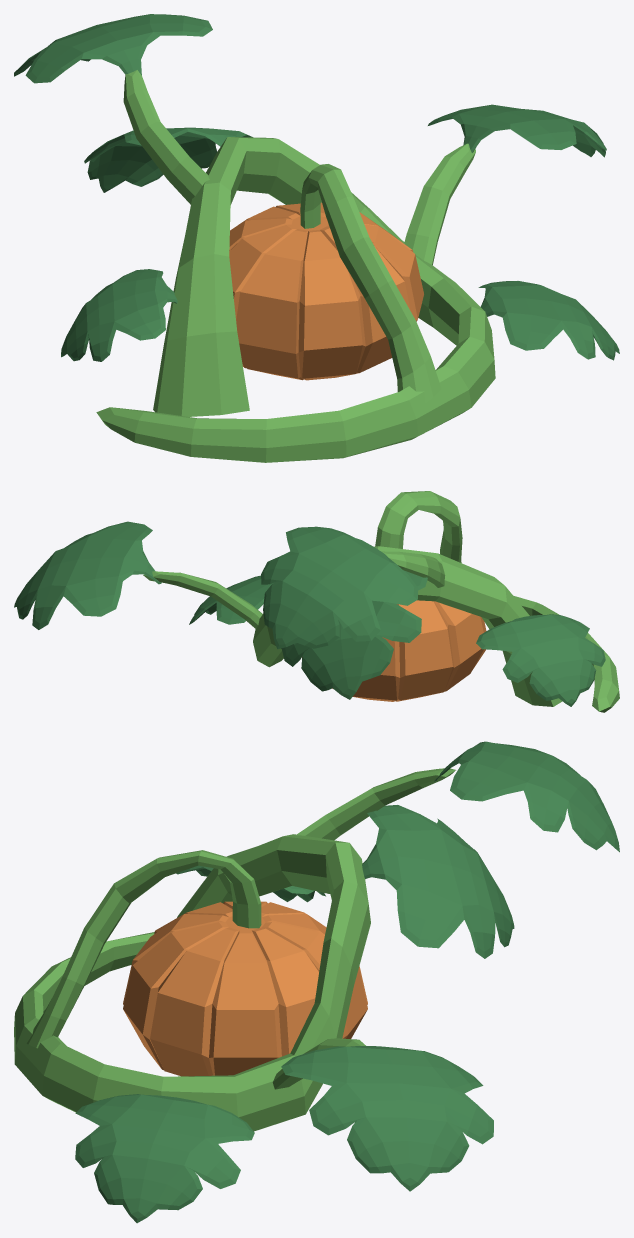
File: Pumpkin_4-optimized.glb
The picture shows the model from 3 angles, top to bottom: view 1: azimuth 30°, elevation 25°; view 2: azimuth 150°, elevation 25°; view 3: azimuth 270°, elevation 25°; orthographic projection. The views are drawn at different scales.
Visible parts, largest first — view 1: Pumpkin_4; view 2: Pumpkin_4; view 3: Pumpkin_4.
Part boxes in pixels (<box>): Pumpkin_4: <box>14,14,619,462</box>; Pumpkin_4: <box>14,491,619,712</box>; Pumpkin_4: <box>14,741,619,1223</box>.
Size of the model in its own units: 1.29 by 0.59 by 1.08.
